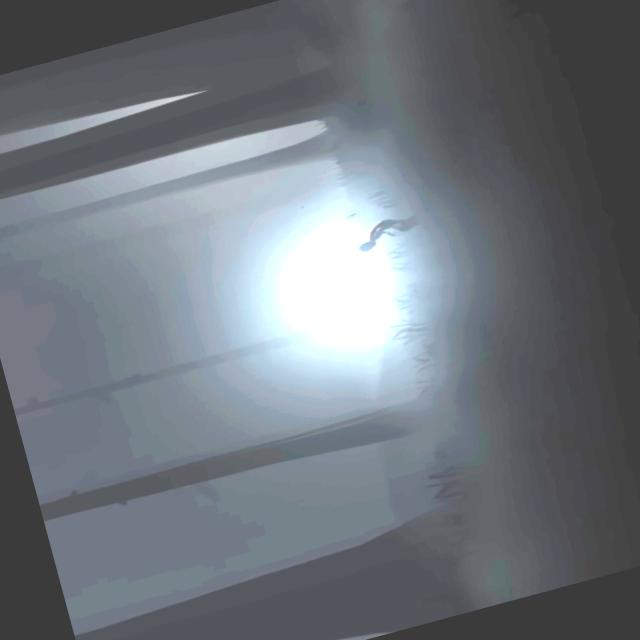boy: (347, 213, 404, 254)
